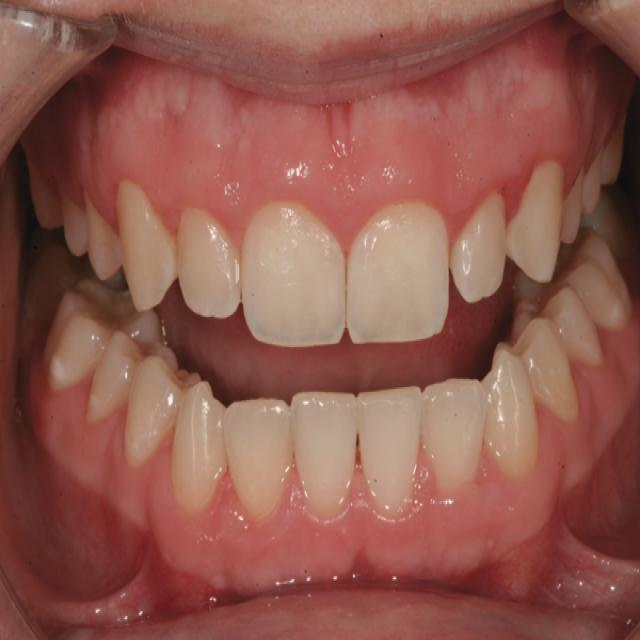tooth: (243, 194, 356, 347), (347, 203, 454, 354), (287, 389, 364, 502), (357, 384, 428, 501), (222, 400, 294, 510), (513, 320, 589, 424), (119, 187, 182, 307), (420, 374, 484, 492), (478, 349, 535, 475), (175, 203, 236, 320), (175, 382, 231, 509), (510, 157, 565, 286), (454, 184, 508, 304), (46, 299, 110, 395), (121, 354, 174, 466), (571, 251, 630, 331), (91, 331, 133, 429), (550, 298, 602, 371), (25, 152, 65, 246), (88, 203, 120, 282), (554, 178, 591, 243), (64, 189, 92, 261), (596, 120, 630, 178), (579, 156, 600, 230)
